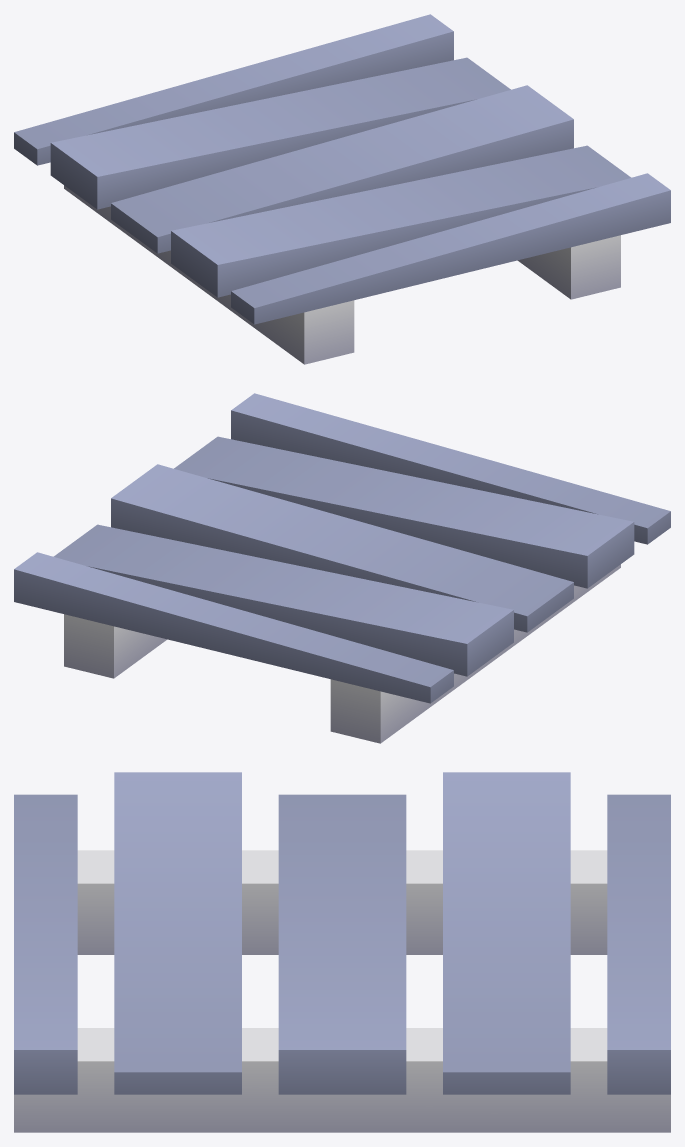
File: platform.glb
The picture shows the model from 3 angles, top to bottom: view 1: azimuth 30°, elevation 25°; view 2: azimuth 150°, elevation 25°; view 3: azimuth 270°, elevation 25°; orthographic projection. The views are drawn at different scales.
Visible parts, largest first — view 1: platform; view 2: platform; view 3: platform.
Boxes of the visible parts, x1,y1,x2,y2 form: platform: (14,14,670,364); platform: (14,393,670,743); platform: (14,772,670,1132).
Size of the model in its own units: 1 by 0.195 by 1.
